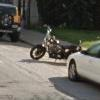Motorcycle: (20, 24, 78, 71)
